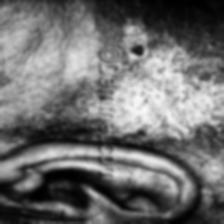Non-Cancerous Skin Condition: (84, 36, 224, 136)
